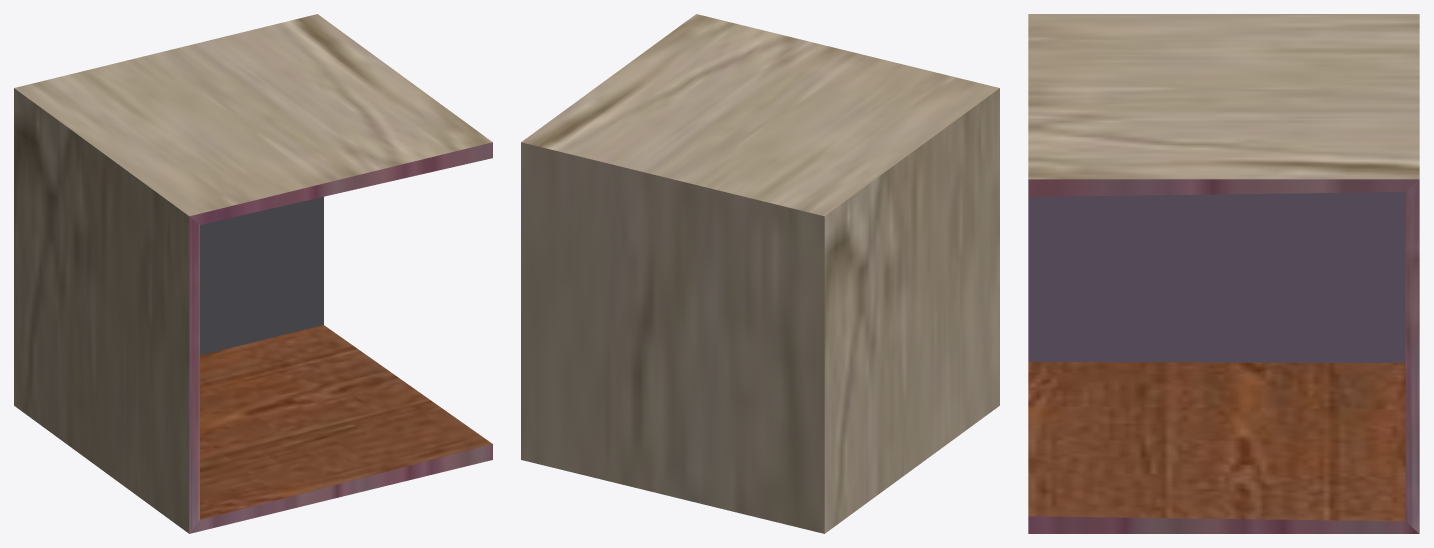
The model's file is abc2.obj.
The picture shows the model from 3 angles, left to right: view 1: azimuth 30°, elevation 25°; view 2: azimuth 150°, elevation 25°; view 3: azimuth 270°, elevation 25°; orthographic projection. The views are drawn at different scales.
Visible parts, largest first — view 1: Cube; view 2: Cube; view 3: Cube.
Part boxes in pixels (x1,y1,x2,y2): Cube: [14, 14, 492, 533]; Cube: [521, 14, 999, 533]; Cube: [1028, 14, 1419, 533].
Bounding box in the file's own units: 60 × 60 × 60.
Materials: 1 (1 with a texture image).
